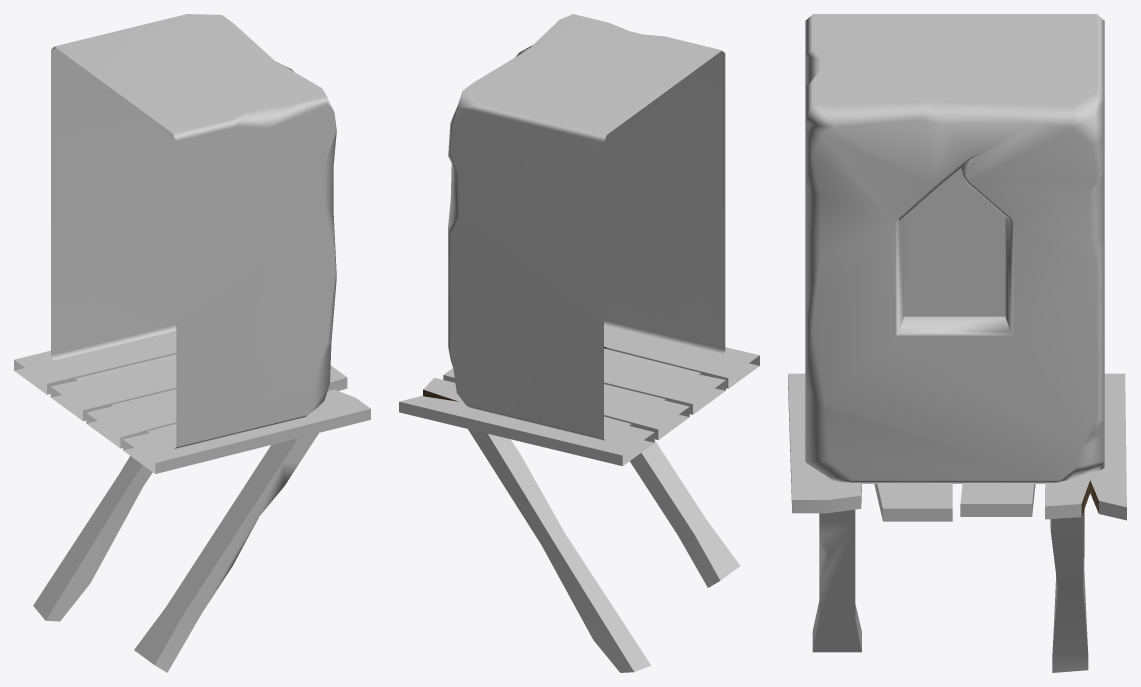
The model's file is lower_city_balcony_03.fbx.
The picture shows the model from 3 angles, left to right: view 1: azimuth 30°, elevation 25°; view 2: azimuth 150°, elevation 25°; view 3: azimuth 270°, elevation 25°; orthographic projection. The views are drawn at different scales.
Parts seen in each view (by area): view 1: lower_city_balcony_03; view 2: lower_city_balcony_03; view 3: lower_city_balcony_03.
Part boxes in pixels (bbox=[...]): lower_city_balcony_03: bbox=[14, 14, 370, 672]; lower_city_balcony_03: bbox=[399, 14, 759, 672]; lower_city_balcony_03: bbox=[788, 14, 1126, 672].
Size of the model in its own units: 1.11 by 2.56 by 1.18.
